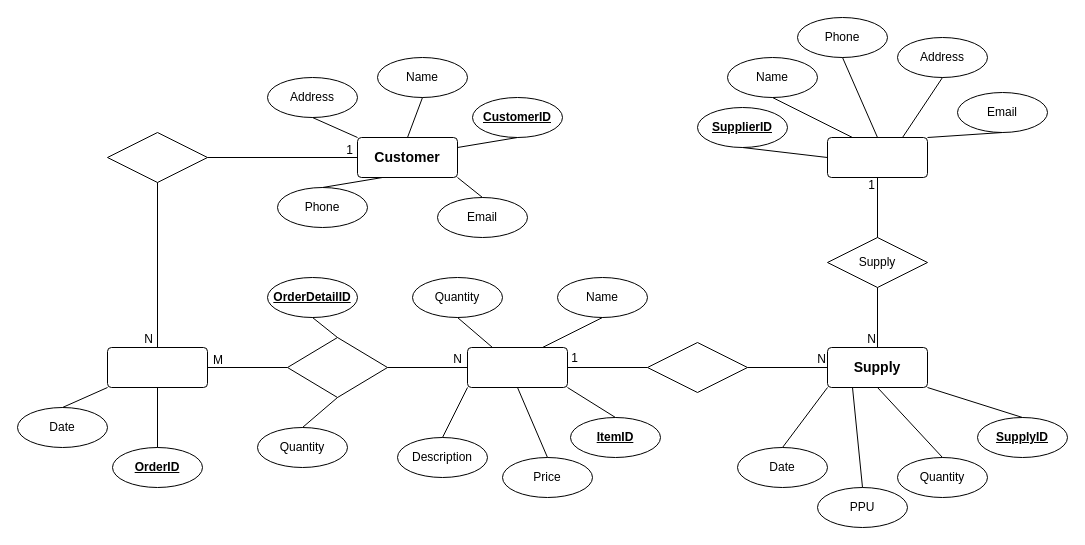
The diagram is 1085 pixels wide and 545 high, and some of its shapes have lost their labels. Each missing label, with the centre of its shape:
come_From: the point at 697,367
Contains (OrderDetail): the point at 337,367
Item: the point at 517,367
Make: the point at 157,157
Order: the point at 157,367
Supplier: the point at 877,157
